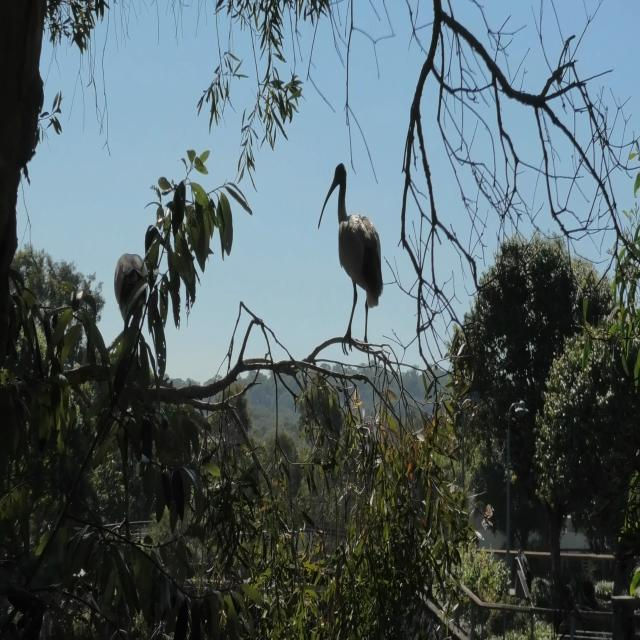Birds-Ibis: (316, 158, 384, 368)
